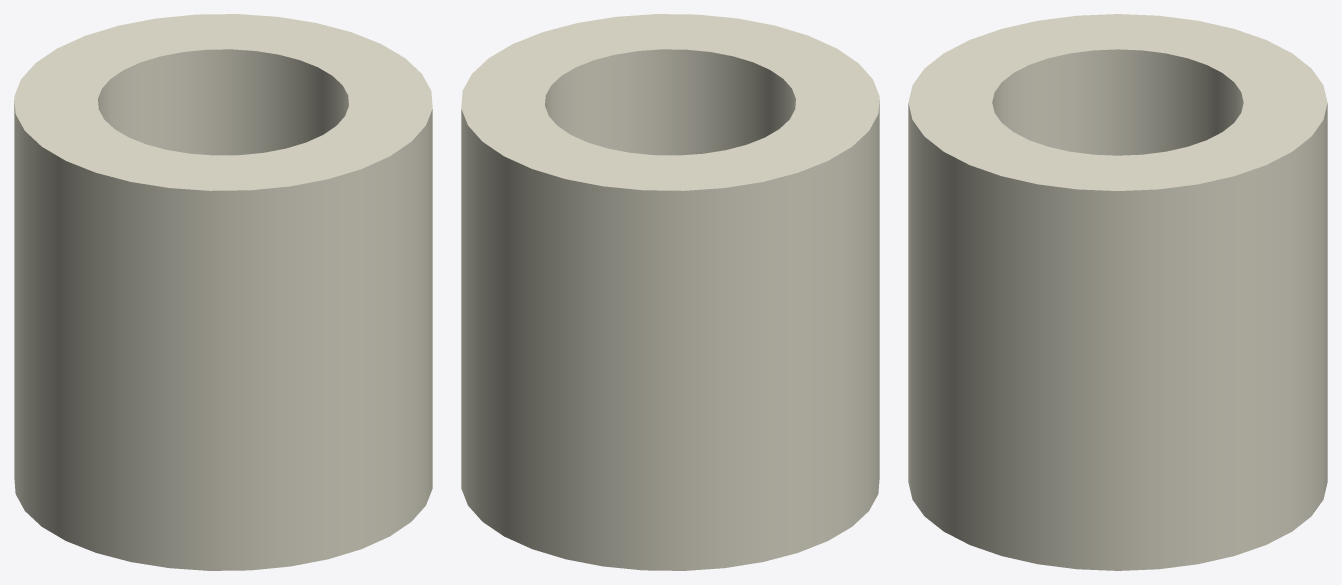
The picture shows the model from 3 angles, left to right: view 1: azimuth 30°, elevation 25°; view 2: azimuth 150°, elevation 25°; view 3: azimuth 270°, elevation 25°; orthographic projection.
Visible parts, largest first — view 1: Shape_Tube; view 2: Shape_Tube; view 3: Shape_Tube.
Part boxes in pixels (x1=…): Shape_Tube: x1=14, y1=14, x2=432, y2=570; Shape_Tube: x1=461, y1=14, x2=879, y2=570; Shape_Tube: x1=908, y1=14, x2=1327, y2=570.
Bounding box in the file's own units: 1 × 1 × 1.
